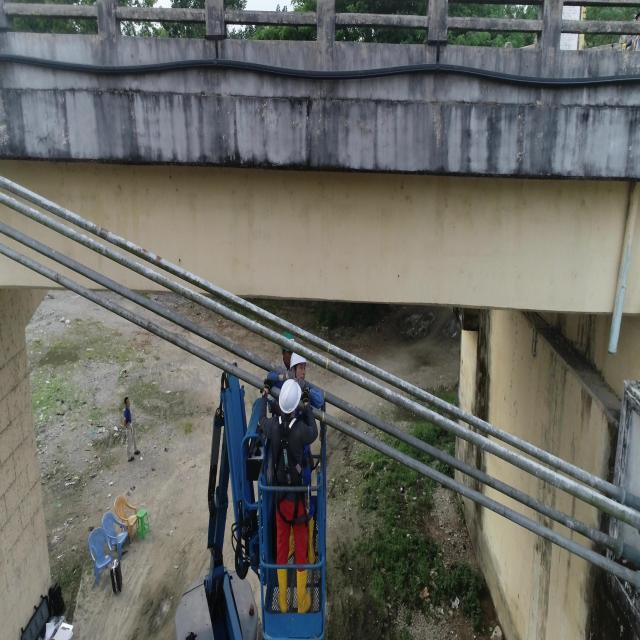corrosion: (100, 229, 108, 239), (155, 256, 162, 266), (92, 224, 98, 234), (142, 248, 148, 258)
